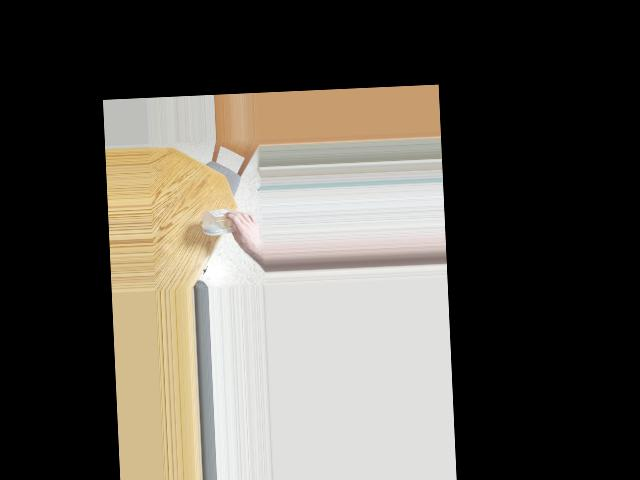cheese: (200, 199, 240, 252)
